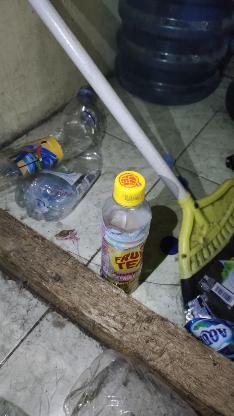Plastic Bottle: (0, 109, 98, 187), (102, 172, 151, 292)
